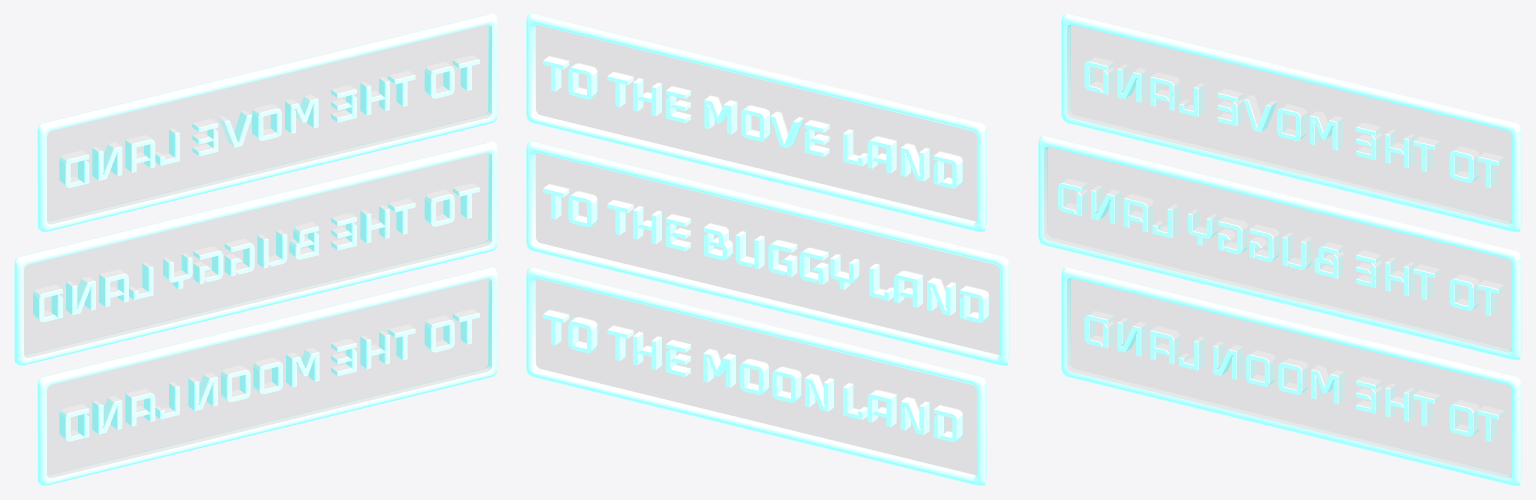
Rendered from To the (2).fbx.
3 views of the same model, side by side, from view 1: azimuth 30°, elevation 25°; view 2: azimuth 150°, elevation 25°; view 3: azimuth 330°, elevation 25° (orthographic).
Parts seen in each view (by area): view 1: Cube.002, Cube, Cube.001; view 2: Cube.002, Cube, Cube.001; view 3: Cube.002, Cube, Cube.001.
Boxes of the visible parts, box(x1,y1,x2,y2) form: Cube.002: box(14, 142, 497, 365); Cube: box(37, 267, 497, 485); Cube.001: box(37, 14, 497, 232); Cube.002: box(526, 142, 1009, 365); Cube: box(526, 267, 986, 485); Cube.001: box(526, 14, 986, 232); Cube.002: box(1038, 136, 1521, 359); Cube: box(1061, 267, 1521, 485); Cube.001: box(1061, 14, 1521, 232).
Size of the model in its own units: 903 by 649 by 21.82.
